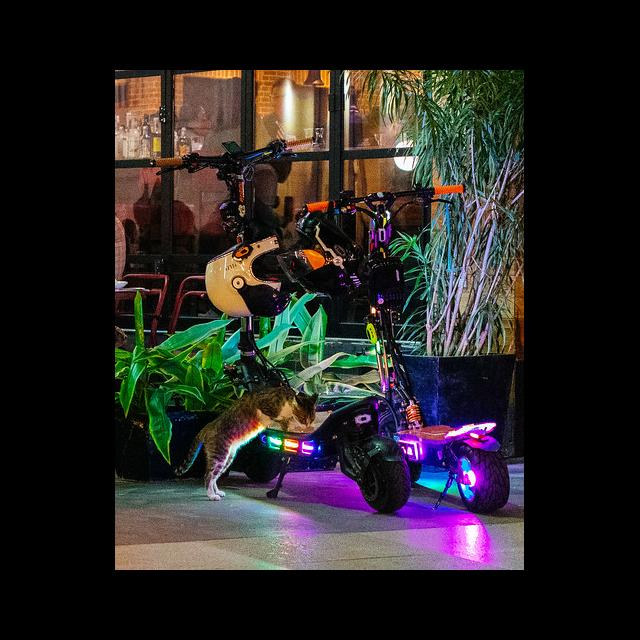animals: (174, 382, 319, 501)
